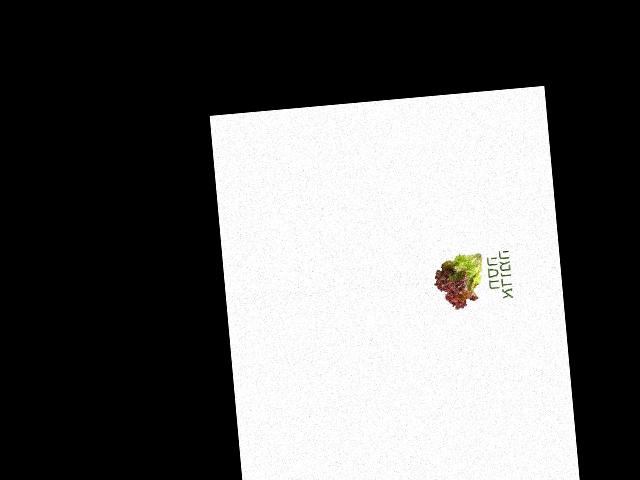lettuce: (431, 246, 488, 312)
